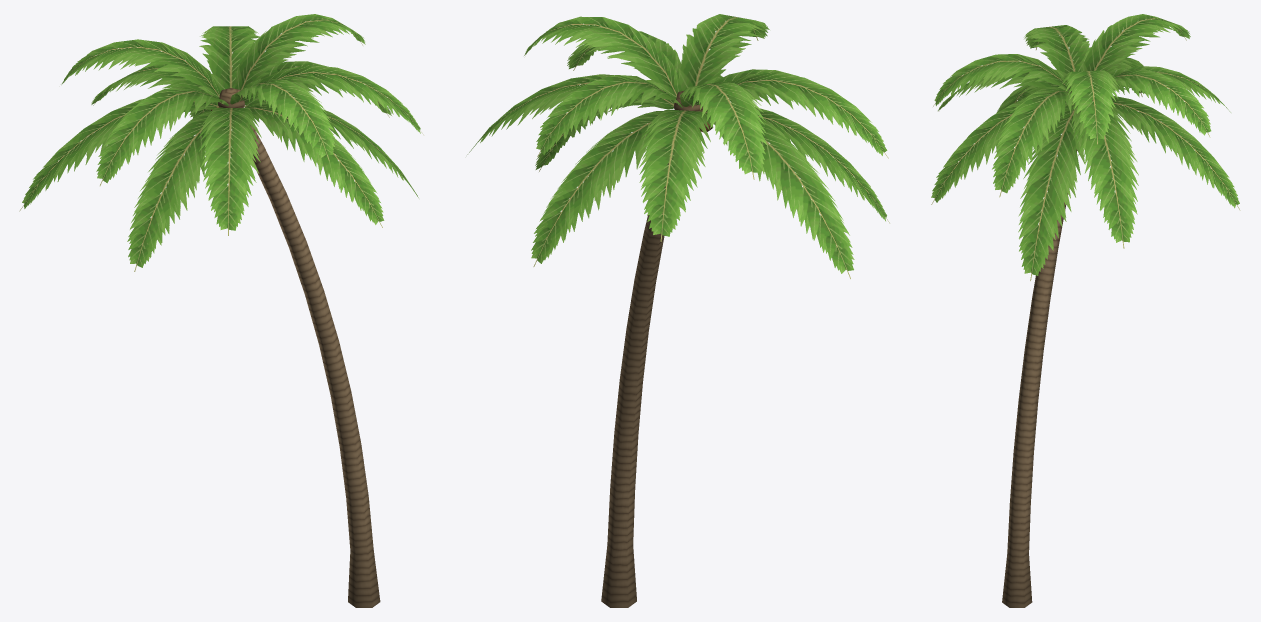
Rendered from coconut_b_lod1.glb.
3 renders of one model, left to right at view 1: azimuth 30°, elevation 25°; view 2: azimuth 150°, elevation 25°; view 3: azimuth 270°, elevation 25°, orthographic. The views are drawn at different scales.
Parts seen in each view (by area): view 1: leaves, wood; view 2: leaves, wood; view 3: leaves, wood.
Boxes of the visible parts, left/top/right/bottom form: leaves: left=19, top=14, right=423, bottom=271; wood: left=211, top=88, right=380, bottom=607; leaves: left=467, top=14, right=889, bottom=278; wood: left=601, top=90, right=712, bottom=607; leaves: left=931, top=14, right=1240, bottom=280; wood: left=1002, top=91, right=1093, bottom=607.
Bounding box in the file's own units: 7.1 × 10.16 × 5.78.
Materials: 2 (2 with a texture image).
